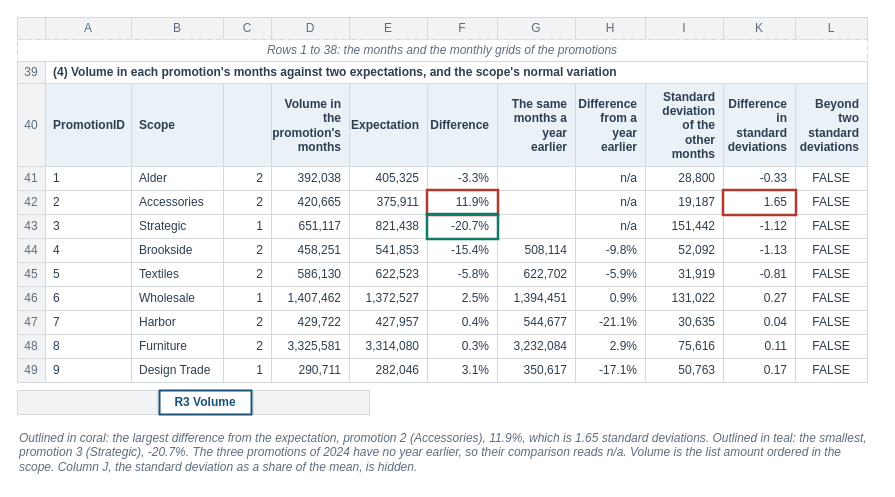
Image size: 895x497. Some labels were removed from this diagram. Here are the shapes that lost their labels. From the top down, the box of each, then its label:
(222, 82, 272, 166): Months
(16, 390, 158, 414): R2 Gross to Net
(252, 390, 370, 414): R3 Customers
